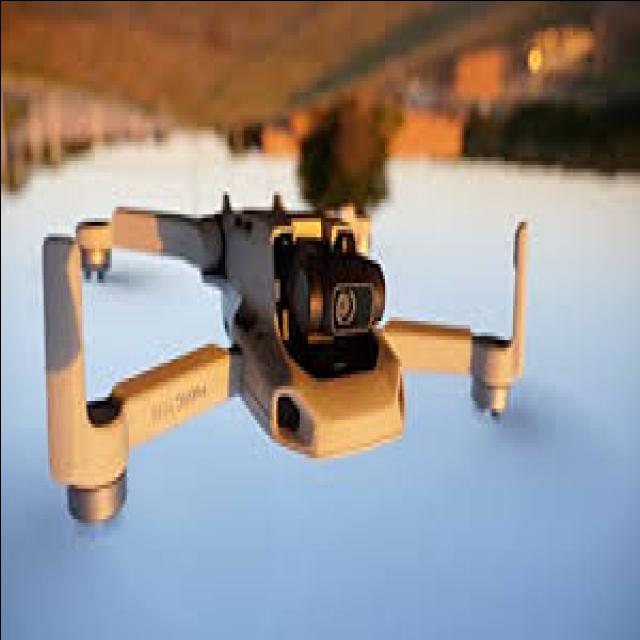drone: (0, 171, 591, 560)
